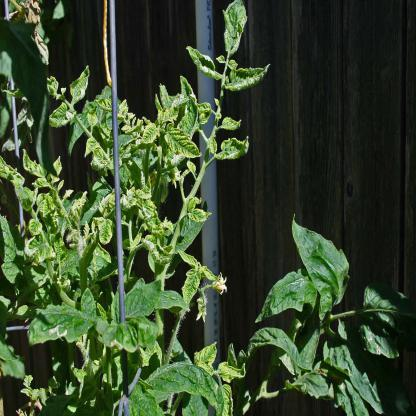Tomato leaf: (23, 292, 99, 350), (112, 275, 166, 325), (131, 178, 167, 238), (223, 60, 276, 98), (212, 134, 258, 168), (160, 124, 200, 162), (220, 0, 246, 56), (177, 261, 207, 307), (22, 142, 48, 184), (70, 63, 92, 105), (26, 235, 57, 264), (186, 198, 218, 226), (138, 118, 163, 150), (155, 100, 182, 127), (94, 214, 115, 248), (36, 190, 60, 216), (48, 103, 70, 131), (219, 112, 245, 134), (27, 219, 46, 240)
